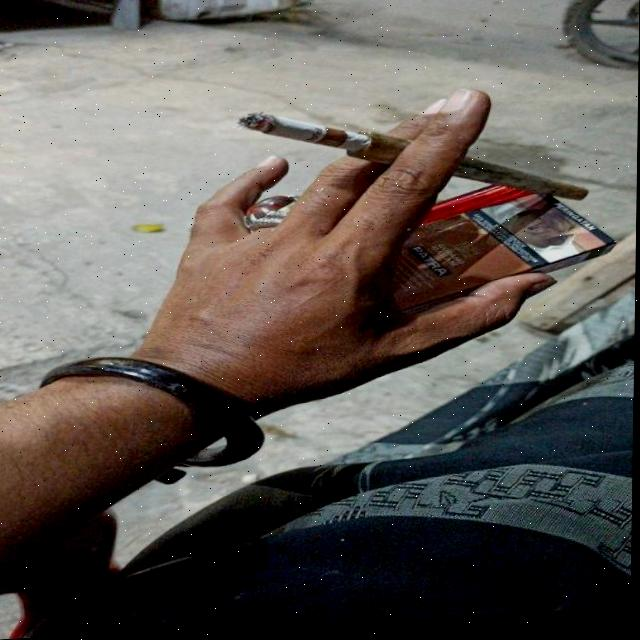cigarette: (240, 114, 368, 157)
